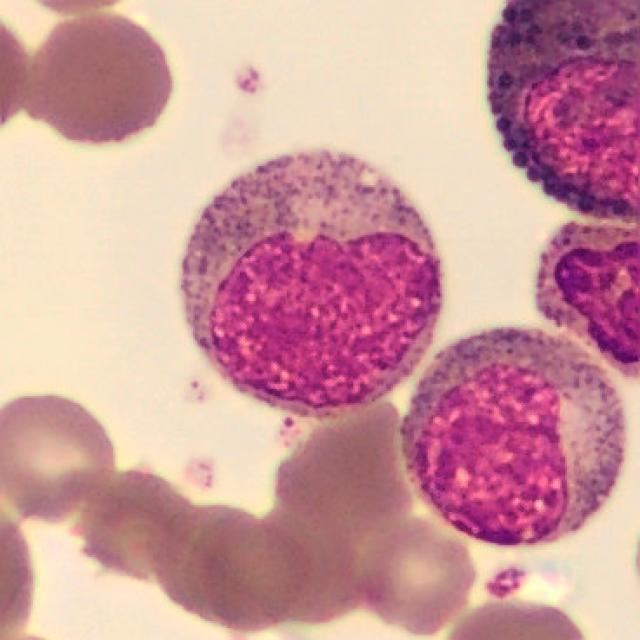Mielocito: (179, 150, 443, 417), (400, 329, 628, 547)
Neutrofilo segmentado: (536, 216, 640, 375)
